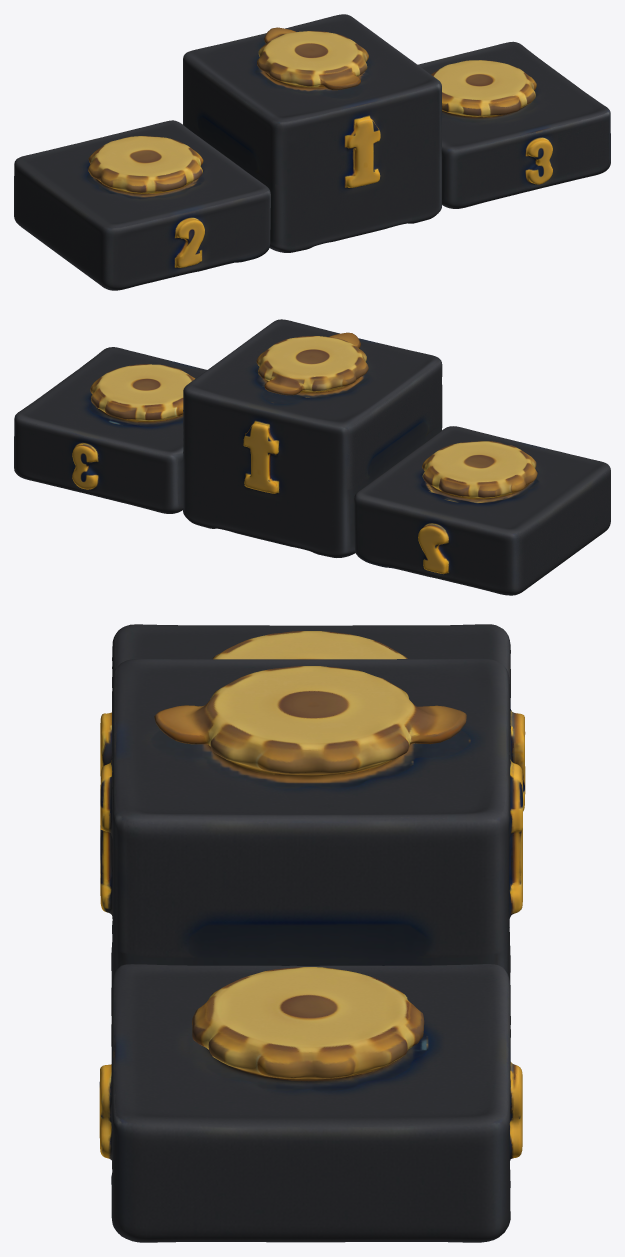
The picture shows the model from 3 angles, top to bottom: view 1: azimuth 30°, elevation 25°; view 2: azimuth 150°, elevation 25°; view 3: azimuth 270°, elevation 25°; orthographic projection. The views are drawn at different scales.
Parts seen in each view (by area): view 1: tripo_node_7f84e74e; view 2: tripo_node_7f84e74e; view 3: tripo_node_7f84e74e.
Boxes of the visible parts, bbox=[...] form: tripo_node_7f84e74e: bbox=[14, 14, 610, 290]; tripo_node_7f84e74e: bbox=[14, 319, 610, 595]; tripo_node_7f84e74e: bbox=[99, 624, 525, 1242].
Size of the model in its own units: 0.9999 by 0.2883 by 0.3627.
1 material, 1 textured.
